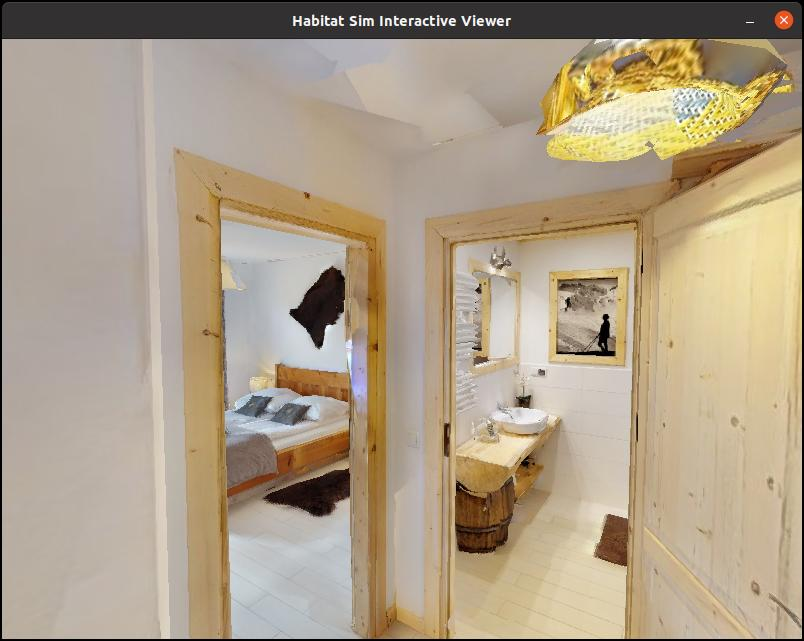door: (633, 135, 804, 641)
door-frame: (167, 169, 389, 641), (423, 215, 650, 641)
